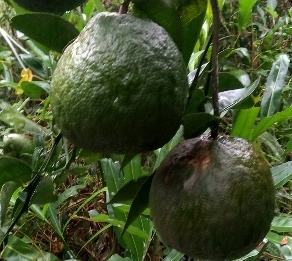Cam: (46, 12, 189, 154), (145, 132, 276, 261)
